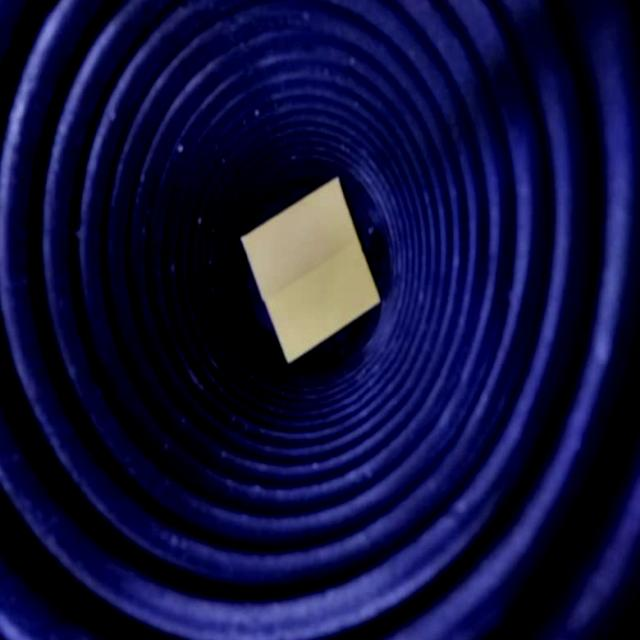obstacles: (239, 175, 382, 366)
